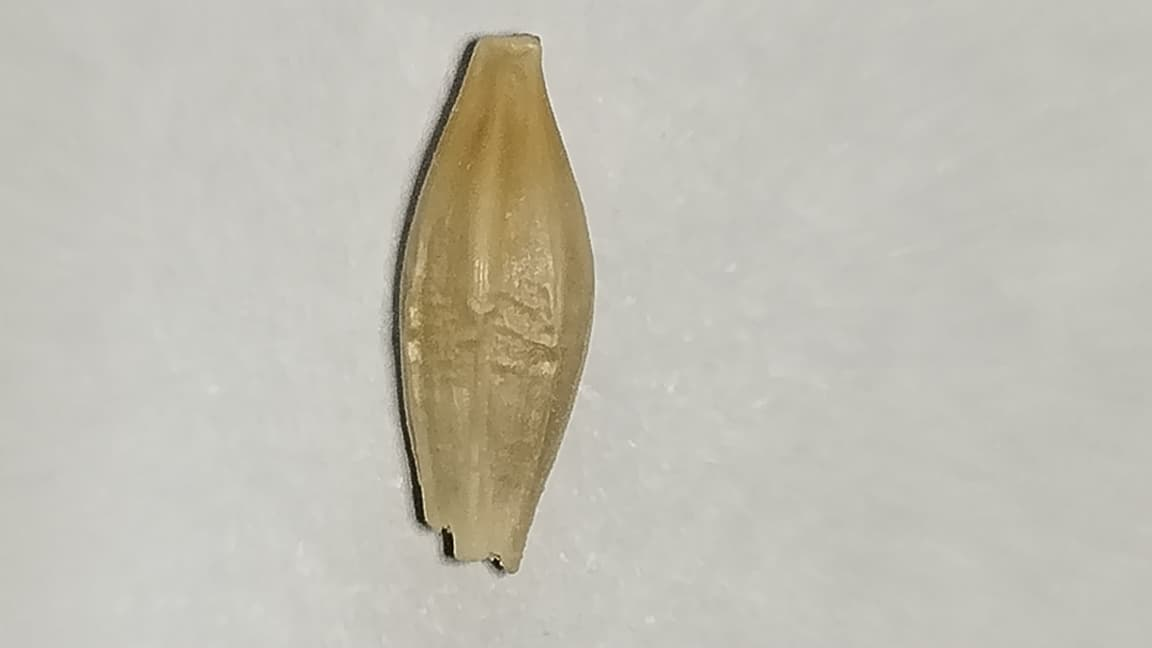healthy-70-60: (397, 36, 594, 571)
